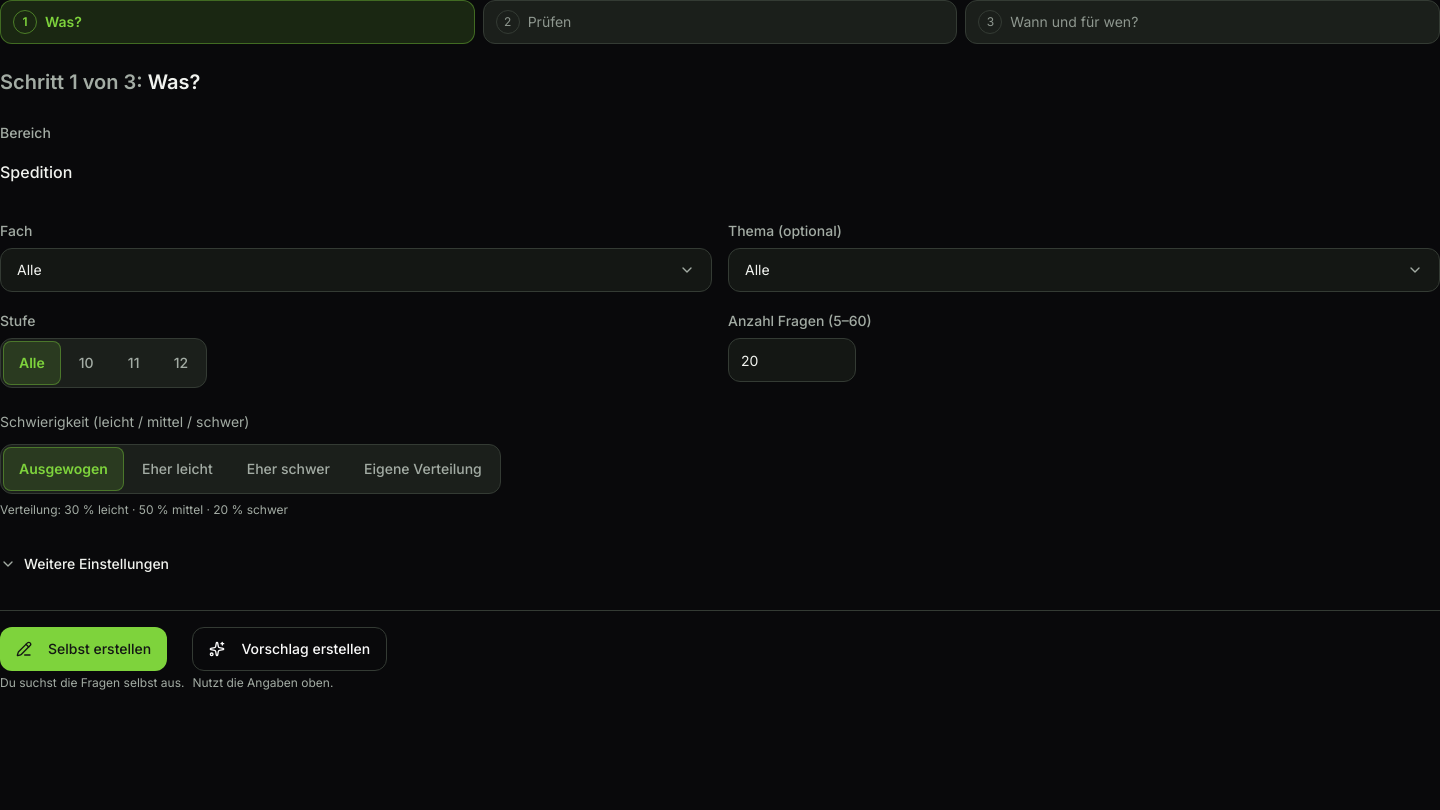
it: Nachweis anlegen in drei Schritten (PROJ-133) › fängt die Zurück-Taste ab und fragt nach, sobald etwas eingegeben ist
Click the button with aria-label "Fach: Alle" at (29, 270), box [0,248,712,292]
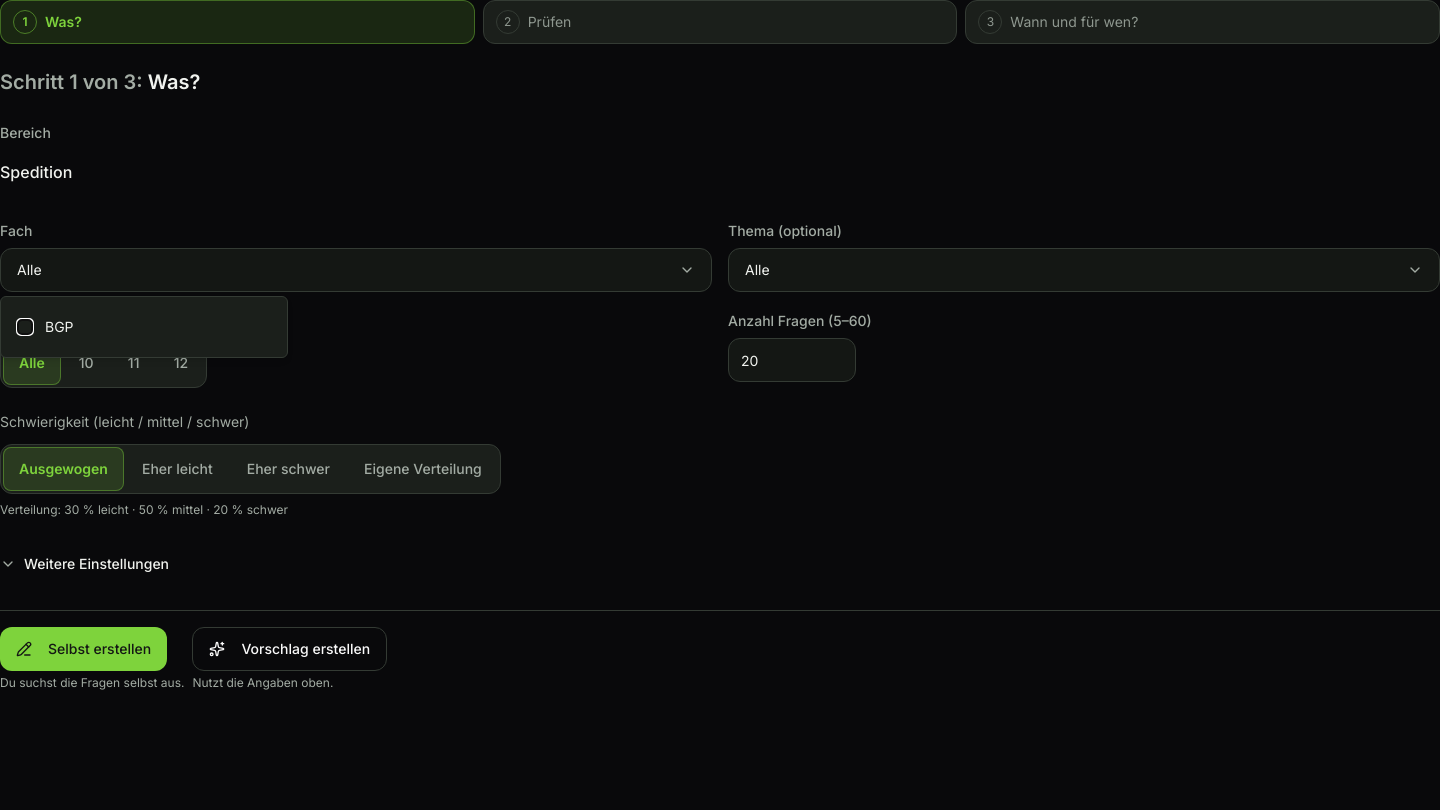
Click the checkbox named "BGP" at (25, 327), box [17,319,33,335]
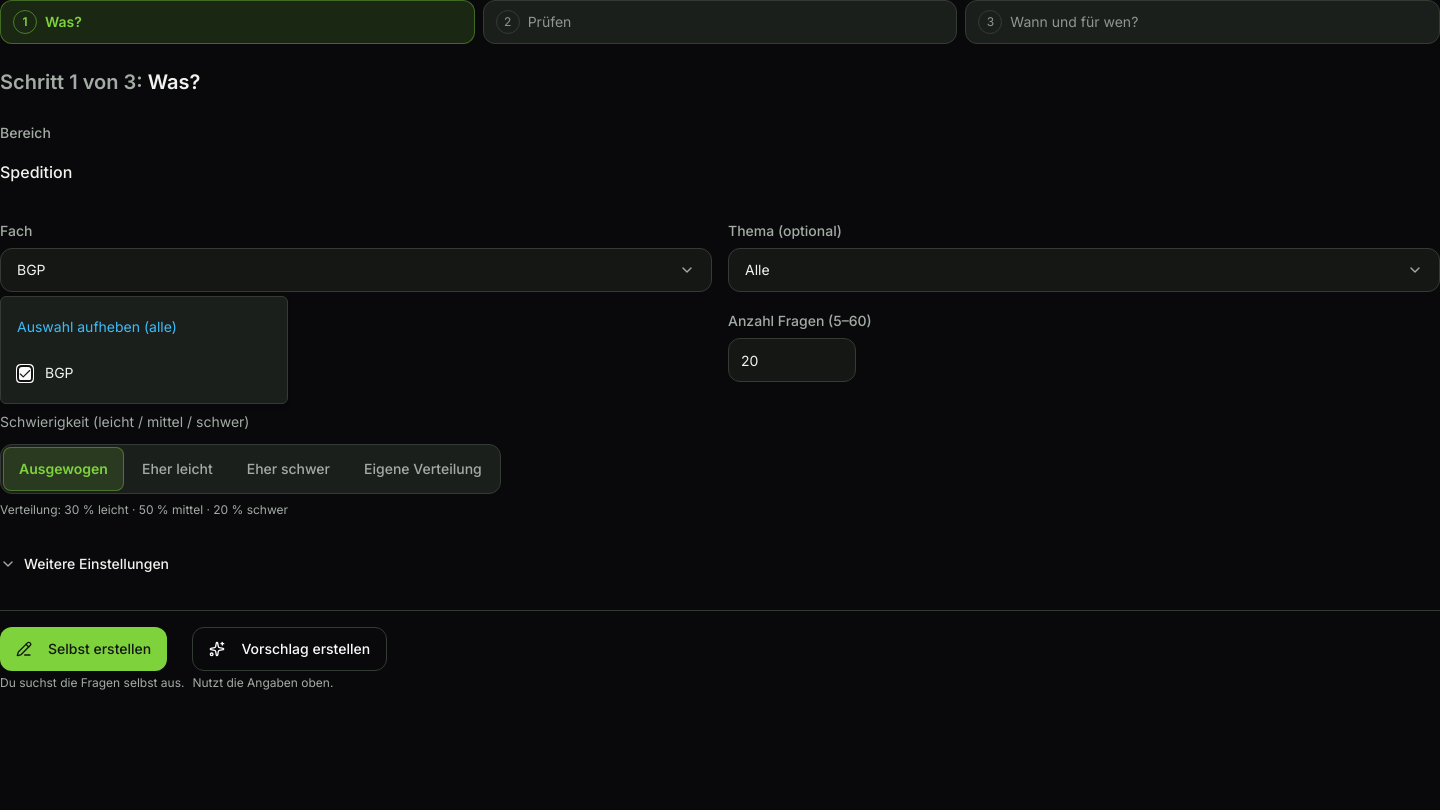
Press Escape in the checkbox named "BGP", box [17,365,33,381]
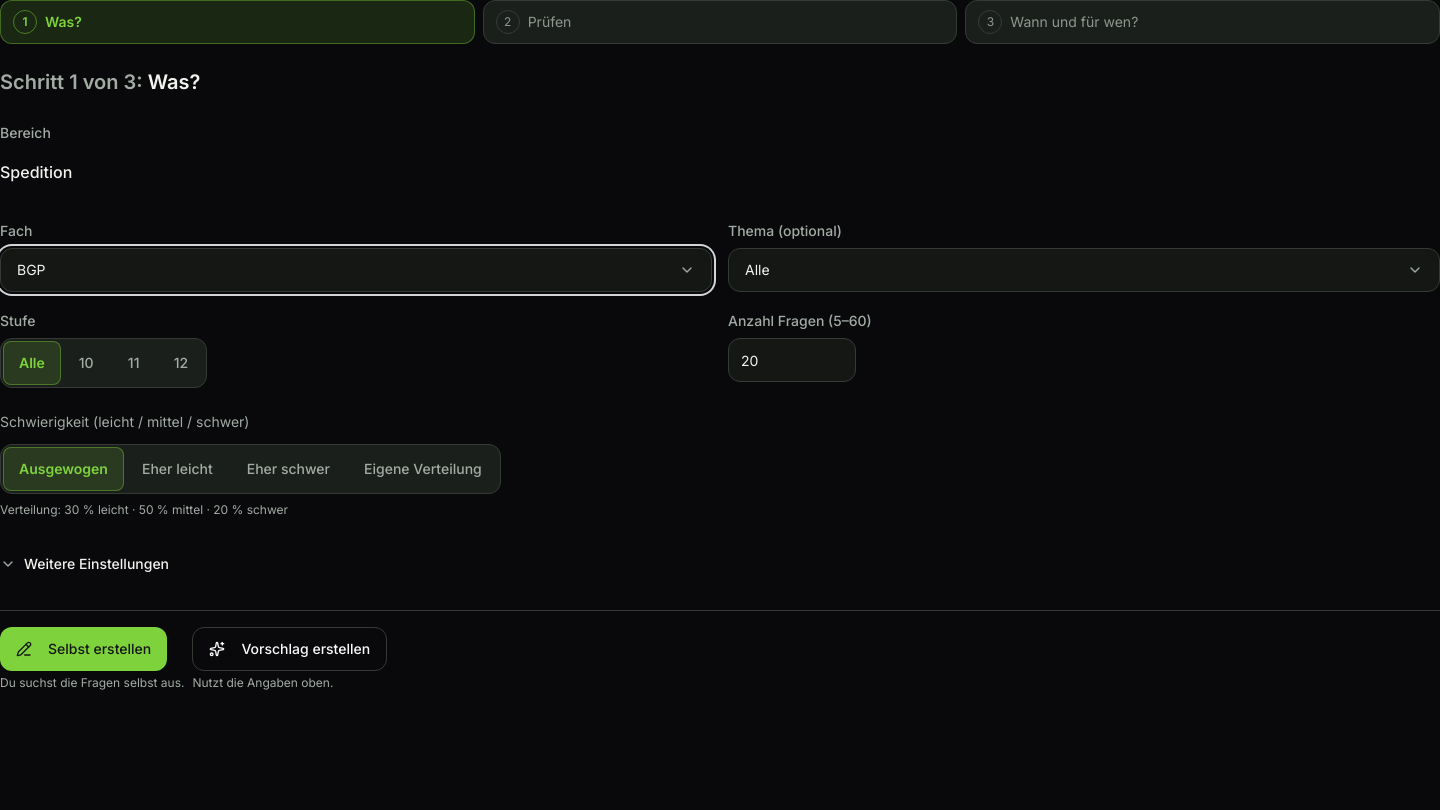
Click the button "Vorschlag erstellen" at (290, 649), box [192,627,387,671]
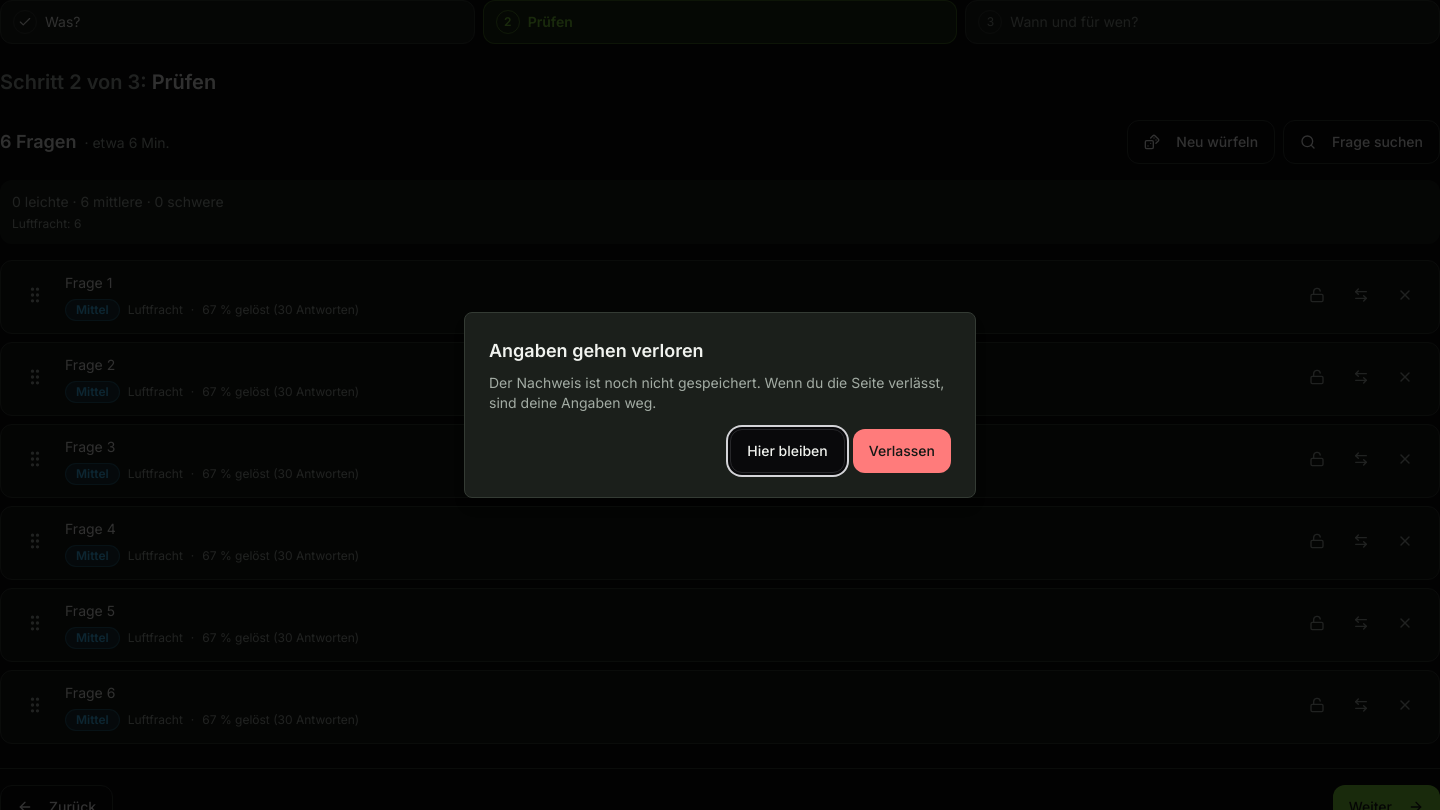
Expected: the text "6 Fragen· etwa 6 Min." is shown, [0,128,170,156]
Expected: the heading "Angaben gehen verloren" is shown, [489,340,704,361]
